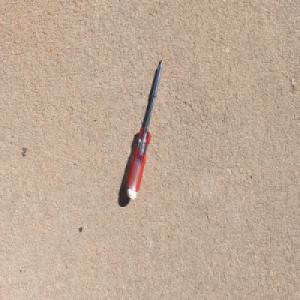Screwdriver: (126, 55, 164, 201)
